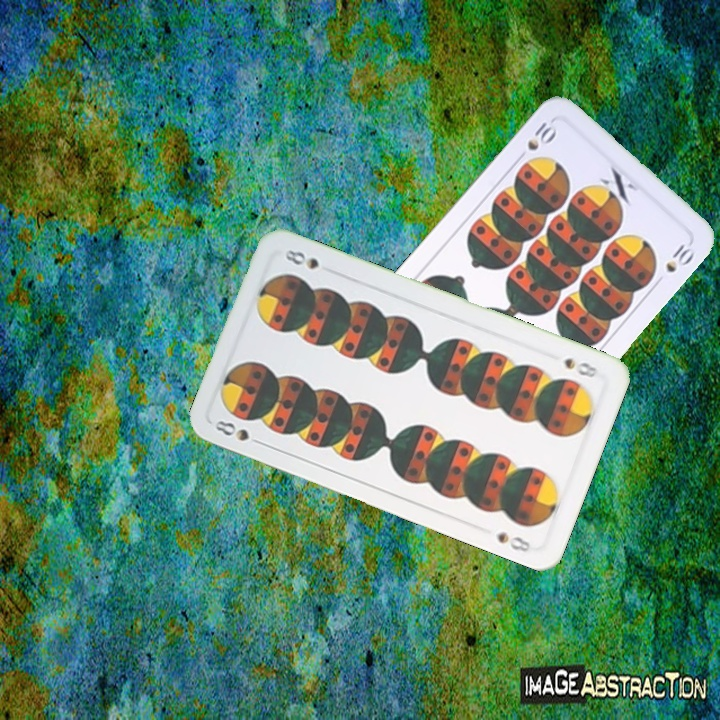S10: (512, 115, 560, 164)
S8: (211, 416, 267, 448), (560, 354, 602, 380)
